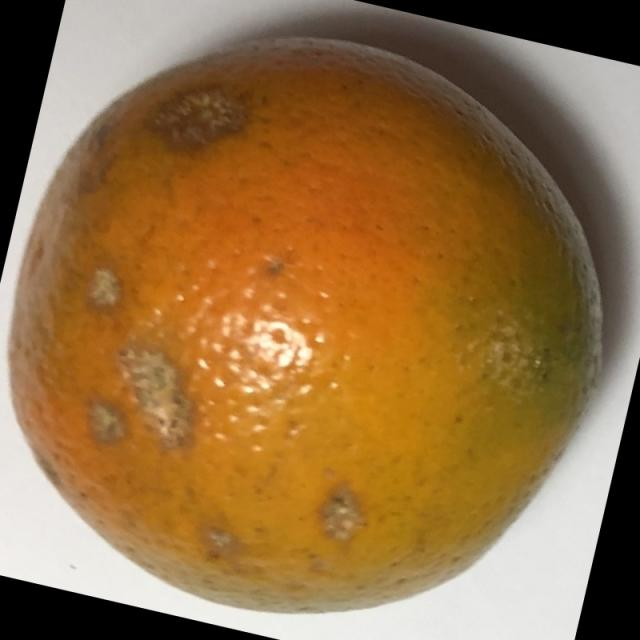canker: (1, 30, 618, 624)
